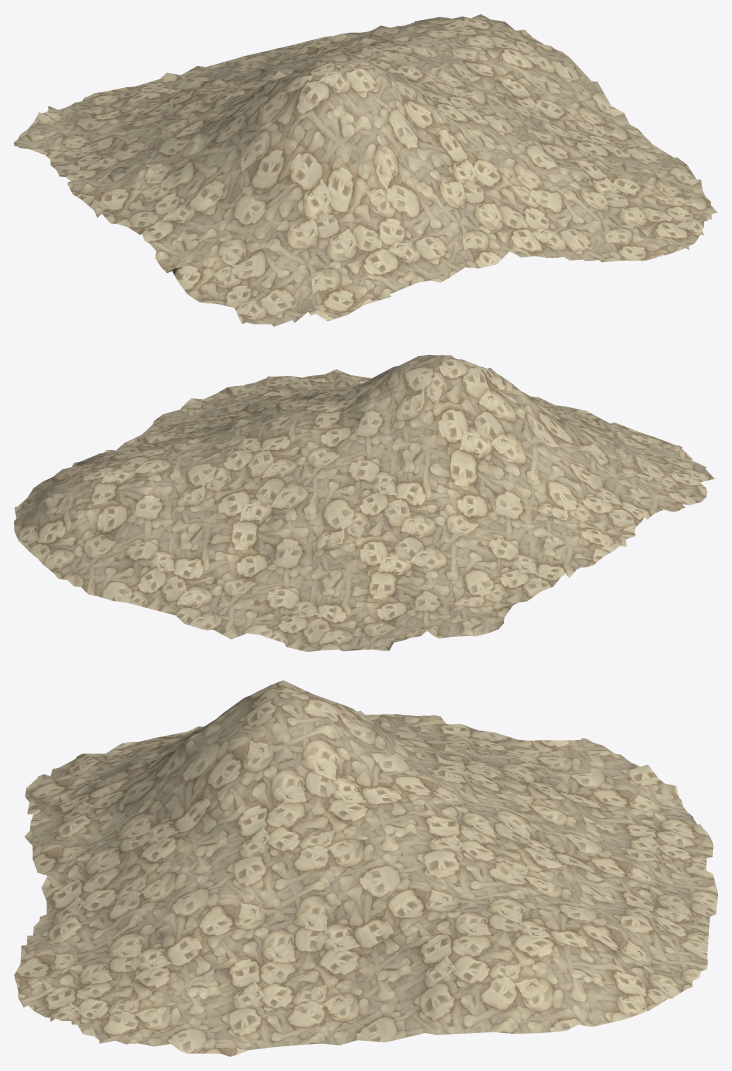
The model's file is SM_Bone_Pile_02.fbx.
3 views of the same model, one above another, from view 1: azimuth 30°, elevation 25°; view 2: azimuth 150°, elevation 25°; view 3: azimuth 270°, elevation 25° (orthographic). The views are drawn at different scales.
Parts seen in each view (by area): view 1: SM_Bone_Pile_02; view 2: SM_Bone_Pile_02; view 3: SM_Bone_Pile_02.
Part boxes in pixels (x1,y1,x2,y2): SM_Bone_Pile_02: (14, 14, 717, 326); SM_Bone_Pile_02: (14, 355, 715, 651); SM_Bone_Pile_02: (14, 680, 717, 1056).
Size of the model in its own units: 574 by 571 by 165.
Materials: 1 (1 with a texture image).
